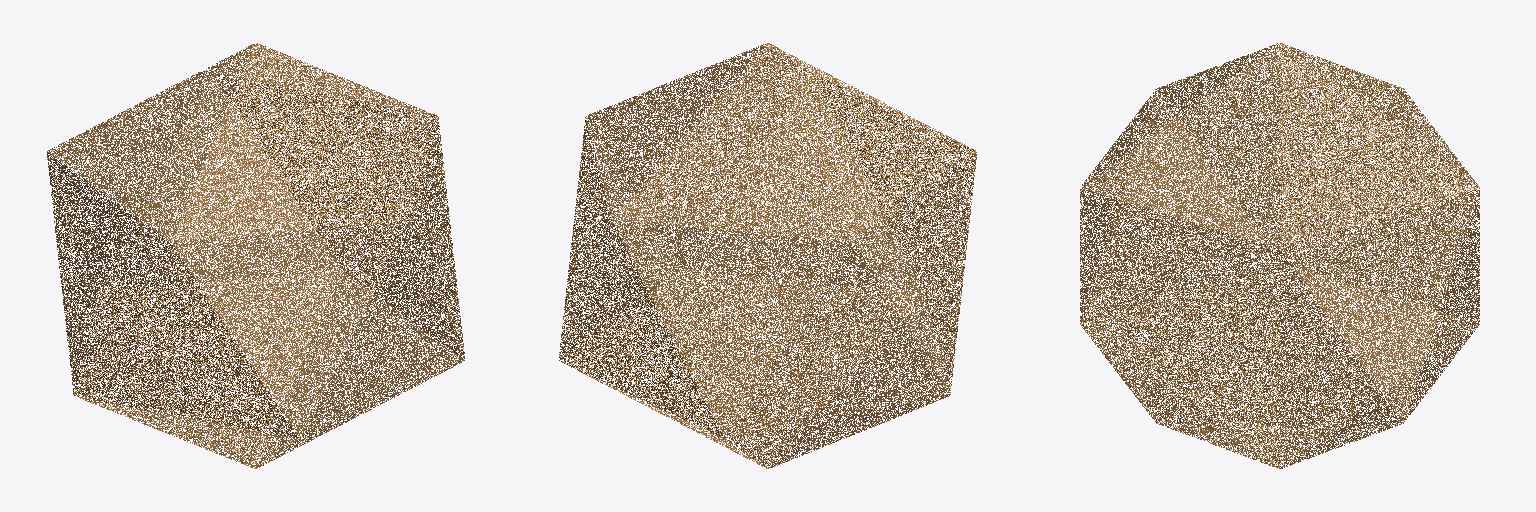
3 renders of one model, left to right at view 1: azimuth 30°, elevation 25°; view 2: azimuth 150°, elevation 25°; view 3: azimuth 270°, elevation 25°, orthographic.
Visible parts, largest first — view 1: Icosphere.003; view 2: Icosphere.003; view 3: Icosphere.003.
Boxes of the visible parts, x1,y1,x2,y2 form: Icosphere.003: [47, 43, 464, 468]; Icosphere.003: [559, 43, 976, 468]; Icosphere.003: [1080, 43, 1479, 468].
Bounding box in the file's own units: 0.1789 × 0.2 × 0.1701.
1 materials, 1 textured.